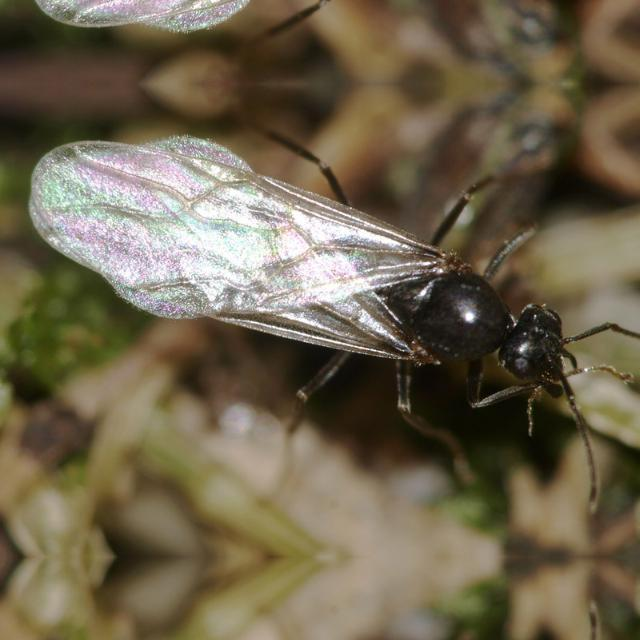Lasius: (39, 113, 595, 419)
